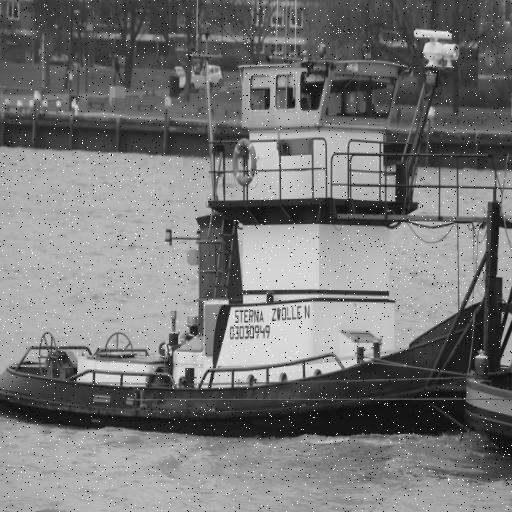tugboat: (1, 23, 512, 449)
